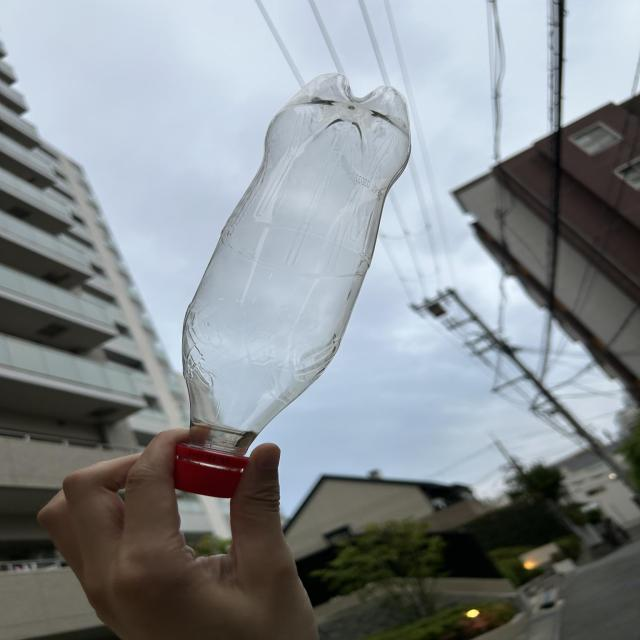empty: (170, 73, 410, 497)
